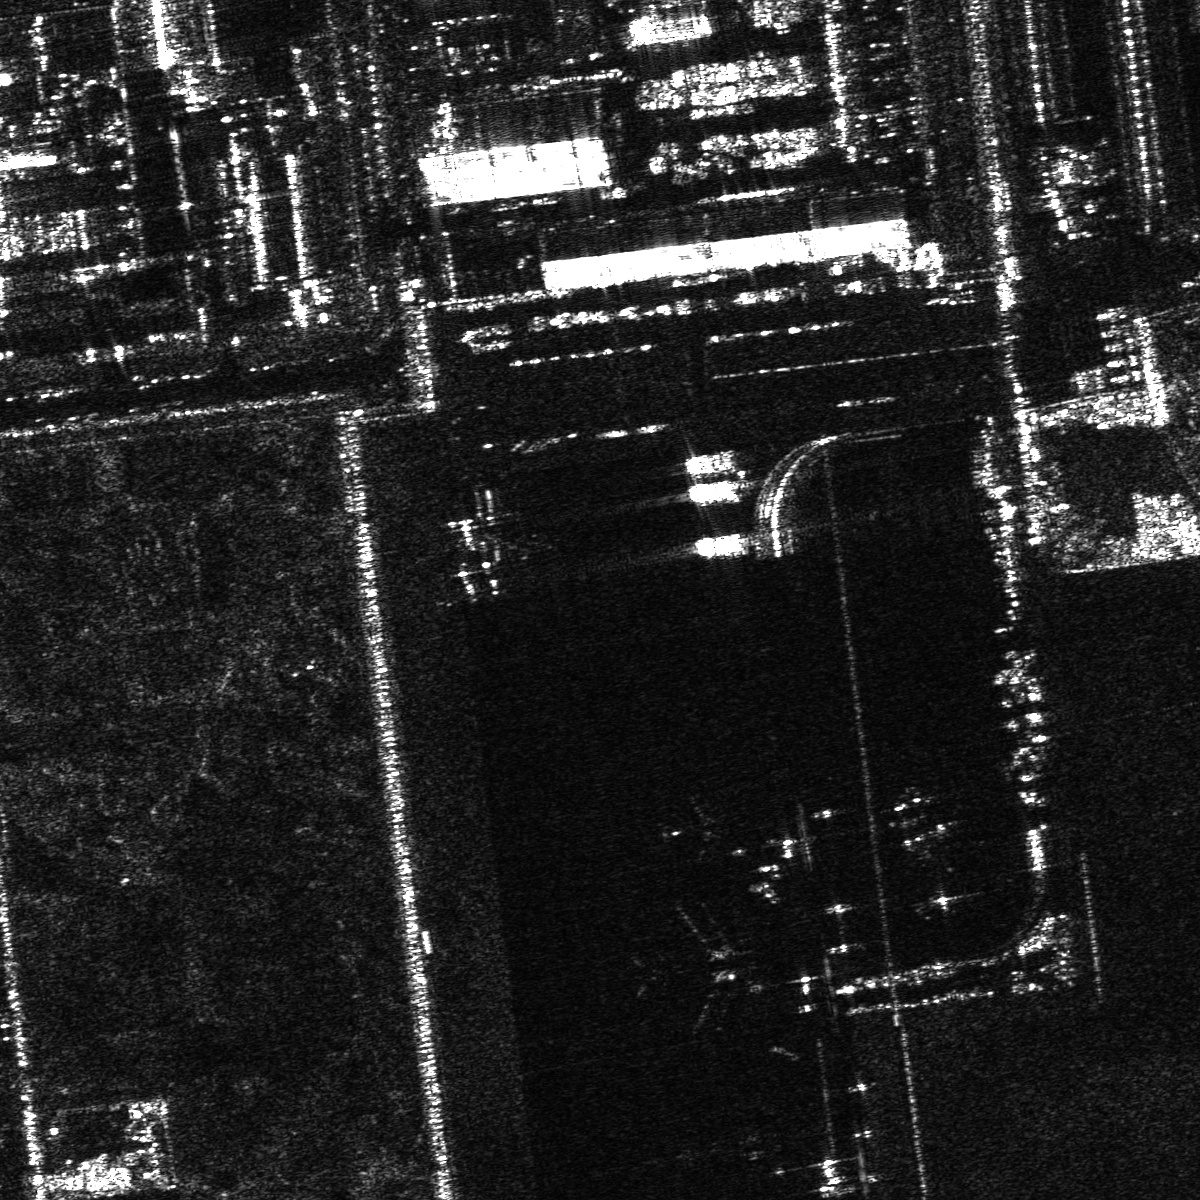Boeing787: (625, 899, 764, 1041), (652, 791, 738, 869)
other: (416, 504, 553, 603)
